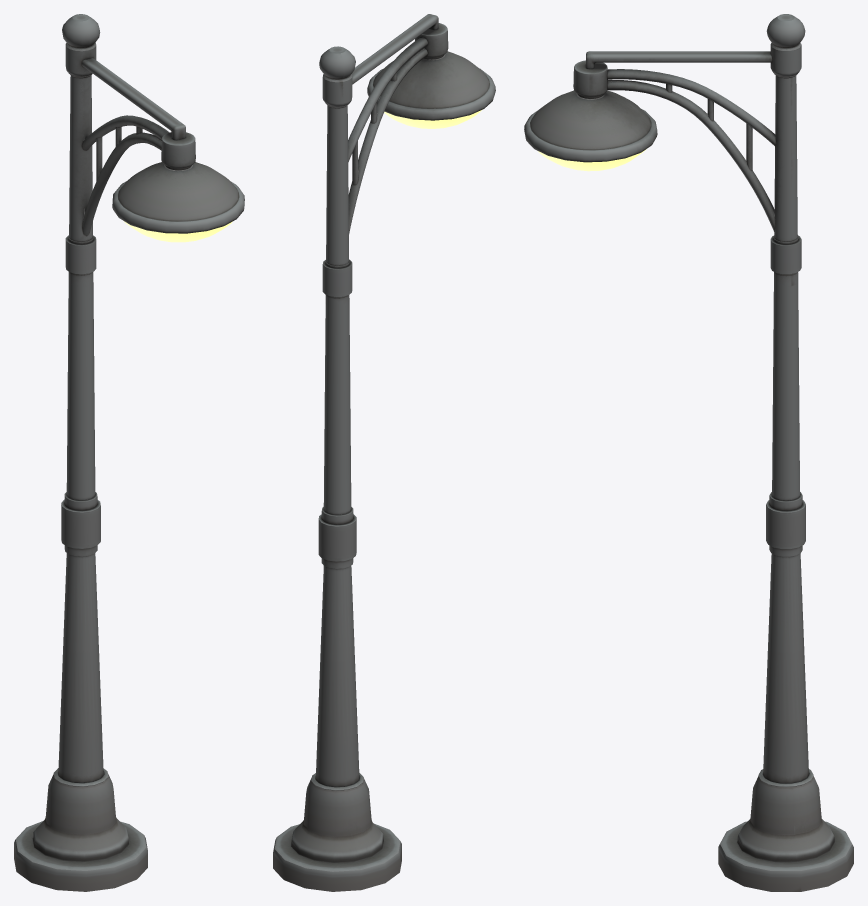
Rendered from stylized_street_light.gltf.
The picture shows the model from 3 angles, left to right: view 1: azimuth 30°, elevation 25°; view 2: azimuth 150°, elevation 25°; view 3: azimuth 270°, elevation 25°; orthographic projection. The views are drawn at different scales.
Parts seen in each view (by area): view 1: SM_Street_Light; view 2: SM_Street_Light; view 3: SM_Street_Light.
Boxes of the visible parts, x1=… form: SM_Street_Light: x1=14, y1=14, x2=244, y2=891; SM_Street_Light: x1=273, y1=14, x2=495, y2=891; SM_Street_Light: x1=524, y1=14, x2=853, y2=891.
Size of the model in its own units: 0.4273 by 2.99 by 1.06.
Materials: 2 (2 with a texture image).
